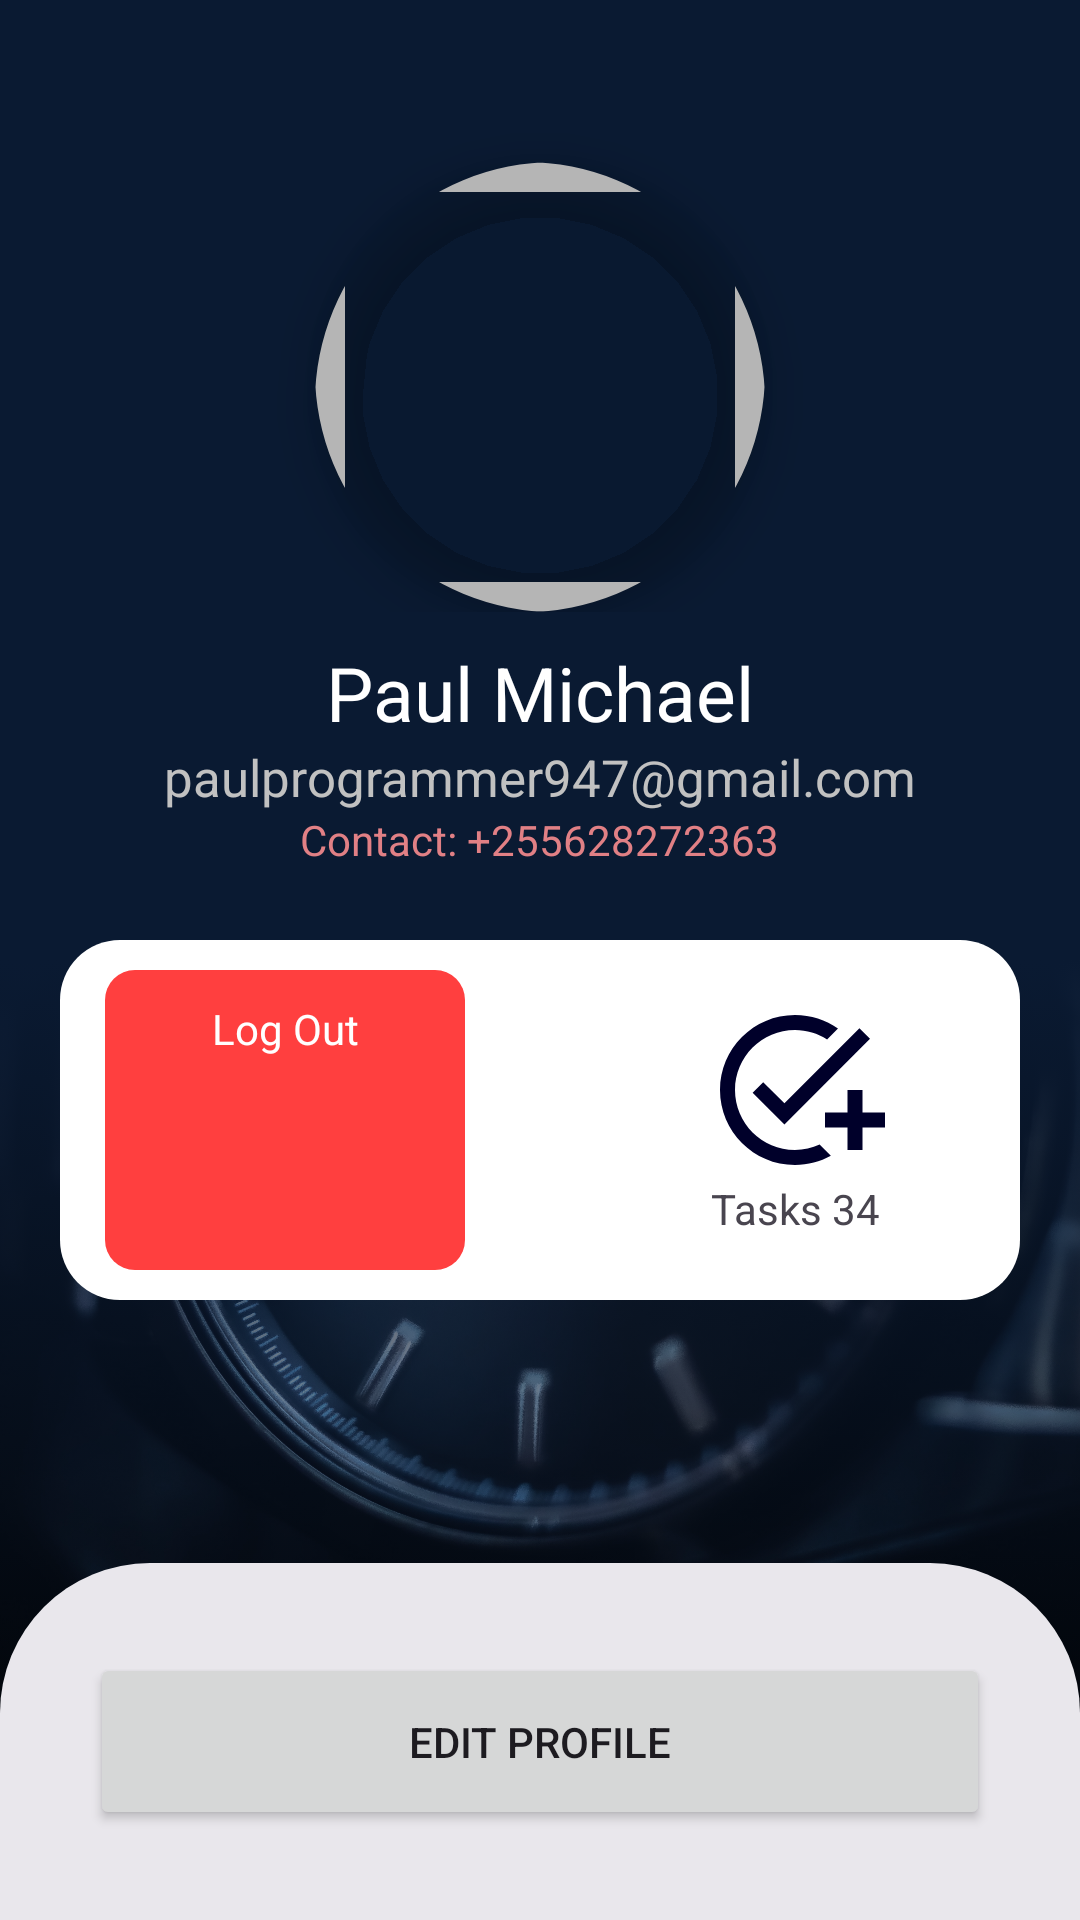

Point at icon controls on the screen. Image size 1080 × 1920, points as [x,y].
add task: [802,1090]
